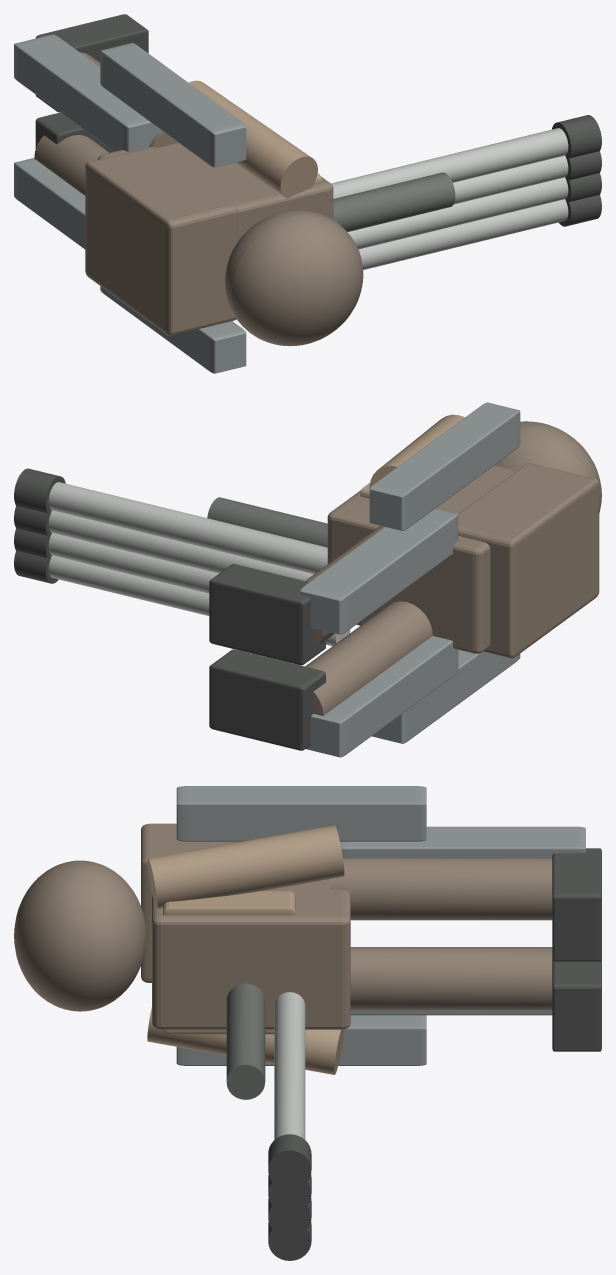
File: d-u09-dominion-exo-infantry-lod1.glb
3 renders of one model, top to bottom at view 1: azimuth 30°, elevation 25°; view 2: azimuth 150°, elevation 25°; view 3: azimuth 270°, elevation 25°, orthographic. The views are drawn at different scales.
Parts seen in each view (by area): view 1: soldier_0_backpack, soldier_0_helmet, exo_servo_arm_1, exo_servo_leg_1, exo_rotary_barrel_3, soldier_0_torso, exo_rotary_barrel_0, exo_rotary_barrel_1, soldier_0_arm_1, soldier_0_rifle, exo_servo_leg_-1, exo_servo_arm_-1 (+8 smaller); view 2: soldier_0_backpack, soldier_0_torso, exo_servo_leg_1, exo_servo_arm_1, soldier_0_boot_-1, soldier_0_boot_1, exo_rotary_barrel_3, exo_servo_leg_-1, soldier_0_leg_-1, exo_rotary_barrel_2, exo_servo_arm_-1, exo_rotary_barrel_0 (+9 smaller); view 3: soldier_0_torso, soldier_0_helmet, exo_servo_arm_1, soldier_0_leg_1, soldier_0_leg_-1, soldier_0_arm_1, exo_servo_leg_1, soldier_0_boot_1, exo_servo_arm_-1, soldier_0_boot_-1, exo_rotary_barrel_3, soldier_0_rifle (+8 smaller).
Part boxes in pixels (x1,y1,x2,y2): soldier_0_backpack: (85, 146, 237, 335); soldier_0_helmet: (225, 210, 363, 346); exo_servo_arm_1: (100, 43, 246, 167); exo_servo_leg_1: (14, 34, 161, 151); exo_rotary_barrel_3: (331, 128, 568, 198); soldier_0_torso: (97, 143, 333, 241); exo_rotary_barrel_0: (358, 199, 568, 269); exo_rotary_barrel_1: (347, 177, 568, 249); soldier_0_arm_1: (189, 80, 317, 198); soldier_0_rifle: (333, 172, 455, 231); exo_servo_leg_-1: (14, 158, 85, 249); exo_servo_arm_-1: (100, 286, 246, 373); soldier_0_backpack: (458, 463, 599, 658); soldier_0_torso: (327, 465, 516, 653); exo_servo_leg_1: (300, 508, 458, 634); exo_servo_arm_1: (369, 402, 520, 530); soldier_0_boot_-1: (209, 649, 325, 750); soldier_0_boot_1: (209, 564, 325, 665); exo_rotary_barrel_3: (48, 482, 327, 573); exo_servo_leg_-1: (306, 636, 458, 757); soldier_0_leg_-1: (305, 601, 432, 715); exo_rotary_barrel_2: (48, 510, 313, 580); exo_servo_arm_-1: (372, 650, 520, 743); exo_rotary_barrel_0: (48, 555, 350, 646); soldier_0_torso: (152, 879, 350, 1029); soldier_0_helmet: (14, 860, 146, 1011); exo_servo_arm_1: (176, 786, 426, 841); soldier_0_leg_1: (330, 858, 552, 920); soldier_0_leg_-1: (350, 947, 552, 1010); soldier_0_arm_1: (147, 825, 344, 908); exo_servo_leg_1: (340, 826, 585, 858); soldier_0_boot_1: (552, 848, 601, 961); exo_servo_arm_-1: (176, 1015, 426, 1065); soldier_0_boot_-1: (552, 959, 601, 1051); exo_rotary_barrel_3: (274, 992, 305, 1139); soldier_0_rifle: (226, 983, 265, 1099).
Size of what is drawn, in the model's own units: 2.59 by 1.22 by 2.47.
